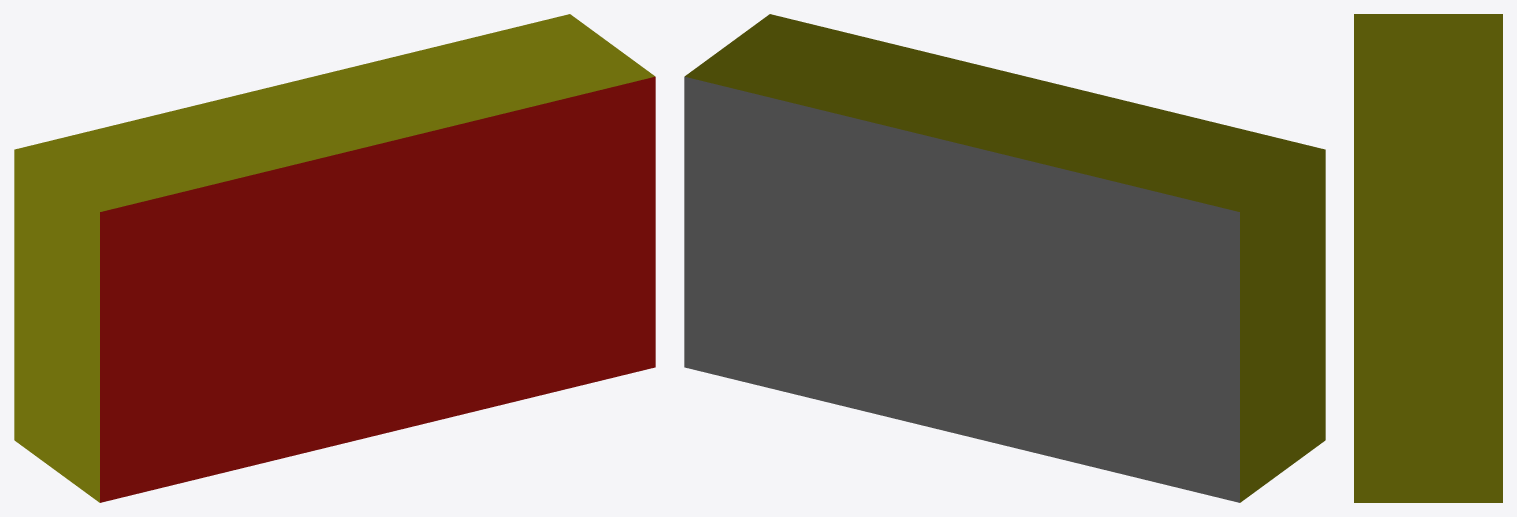
The model's file is idf.obj.
The picture shows the model from 3 angles, left to right: view 1: azimuth 30°, elevation 25°; view 2: azimuth 150°, elevation 25°; view 3: azimuth 270°, elevation 25°; orthographic projection. The views are drawn at different scales.
Bounding box in the file's own units: 9.14 × 4.57 × 2.44.
